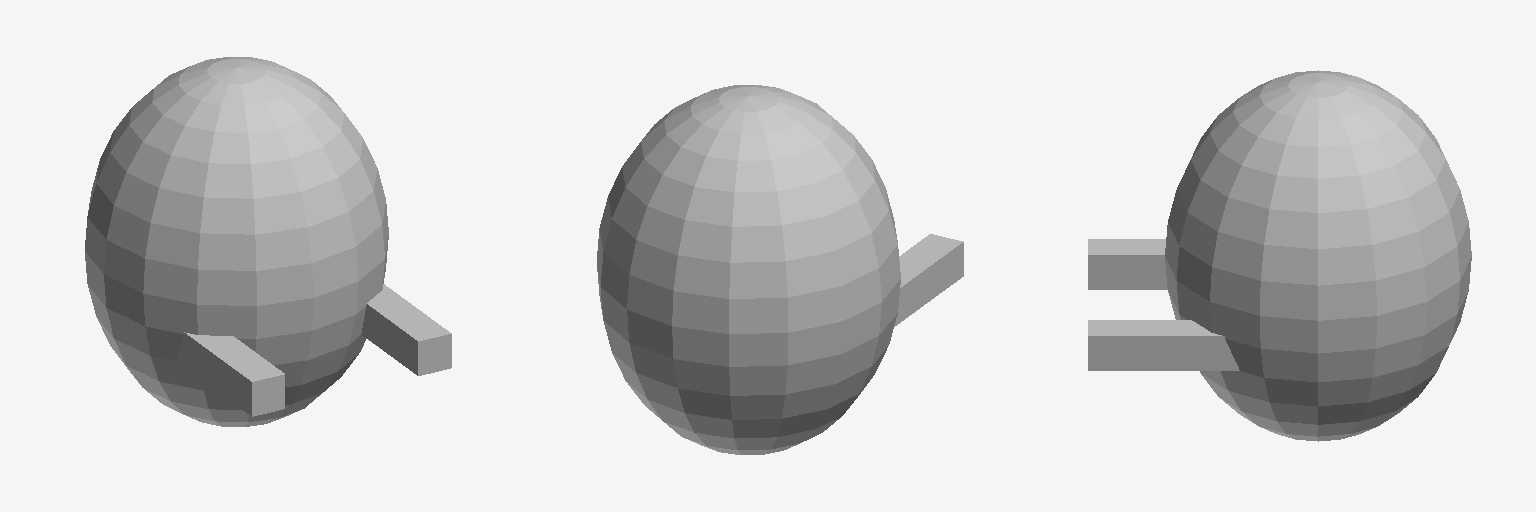
The model's file is soid_man.obj.
3 renders of one model, left to right at view 1: azimuth 30°, elevation 25°; view 2: azimuth 150°, elevation 25°; view 3: azimuth 270°, elevation 25°, orthographic.
Visible parts, largest first — view 1: Sphere; view 2: Sphere; view 3: Sphere.
Part boxes in pixels (x1,y1,x2,y2): Sphere: (85,57,451,426); Sphere: (597,85,963,454); Sphere: (1088,70,1471,441).
Bounding box in the file's own units: 1.6 × 2 × 2.